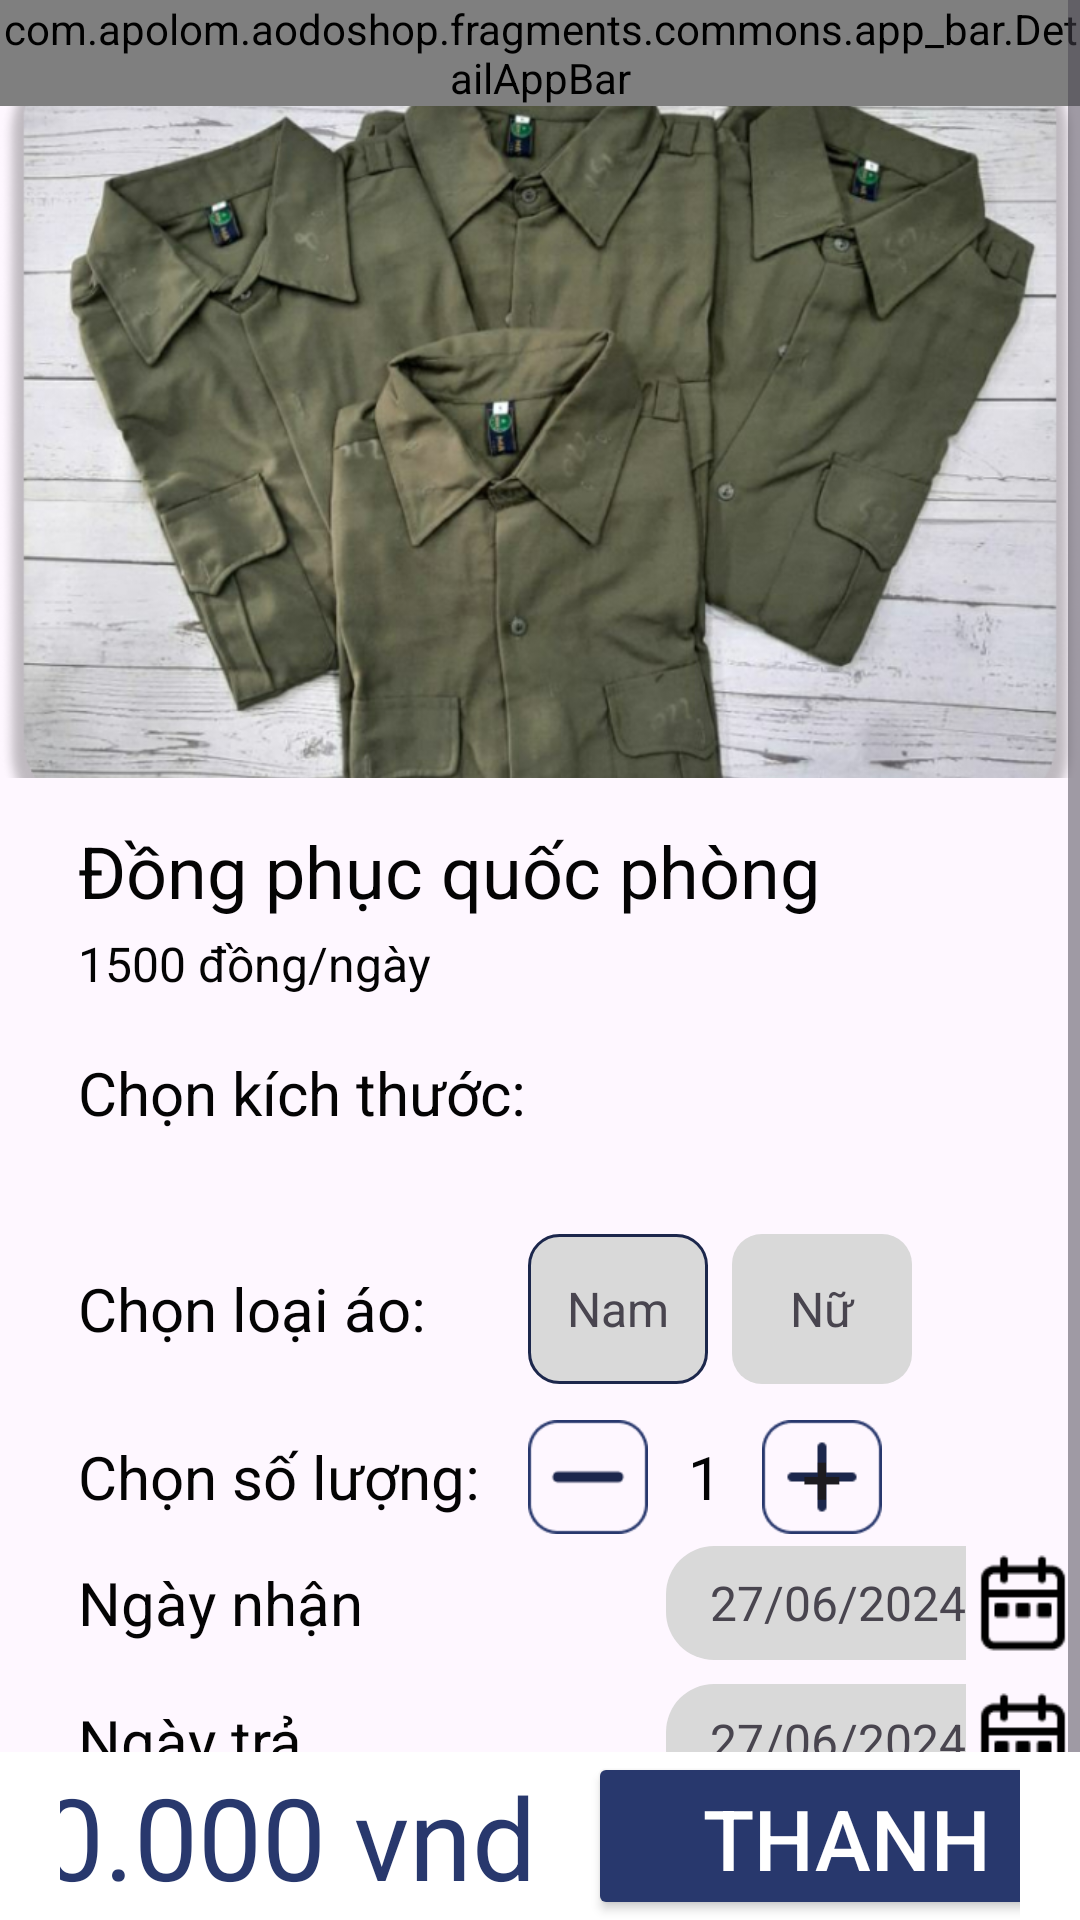

Icons on this 1080w x 1920h Android screen, each with its box as (x1, y1, x2, y2):
minus: (528, 1420, 648, 1534)
